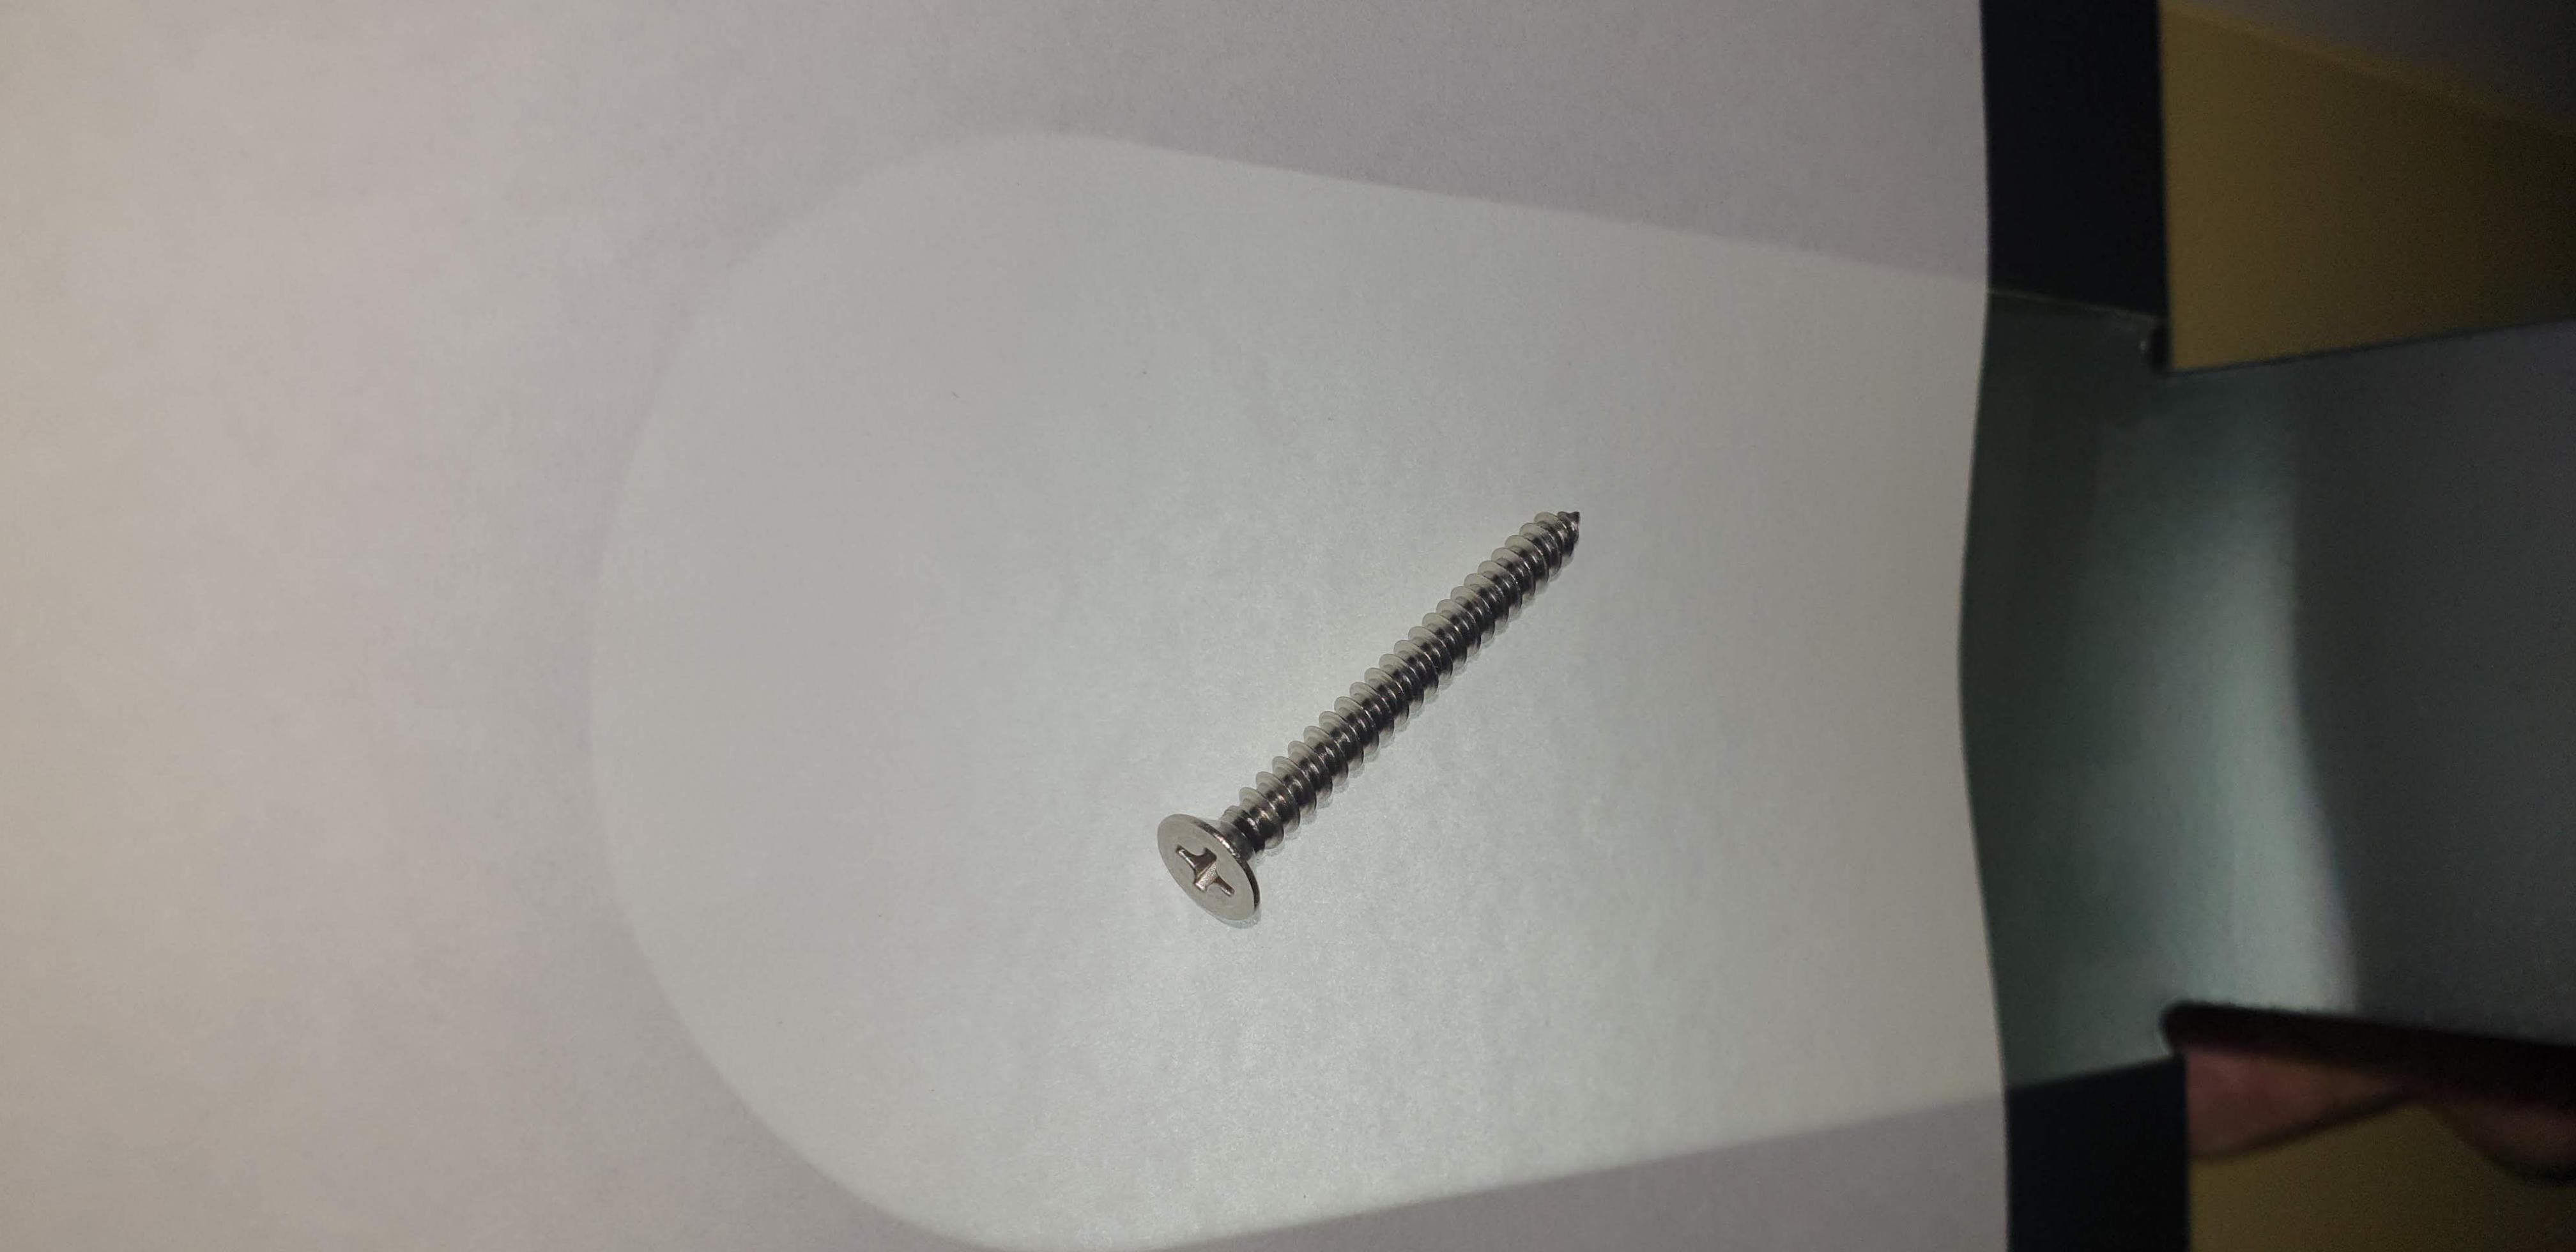fastener: (1015, 453, 1733, 1001)
